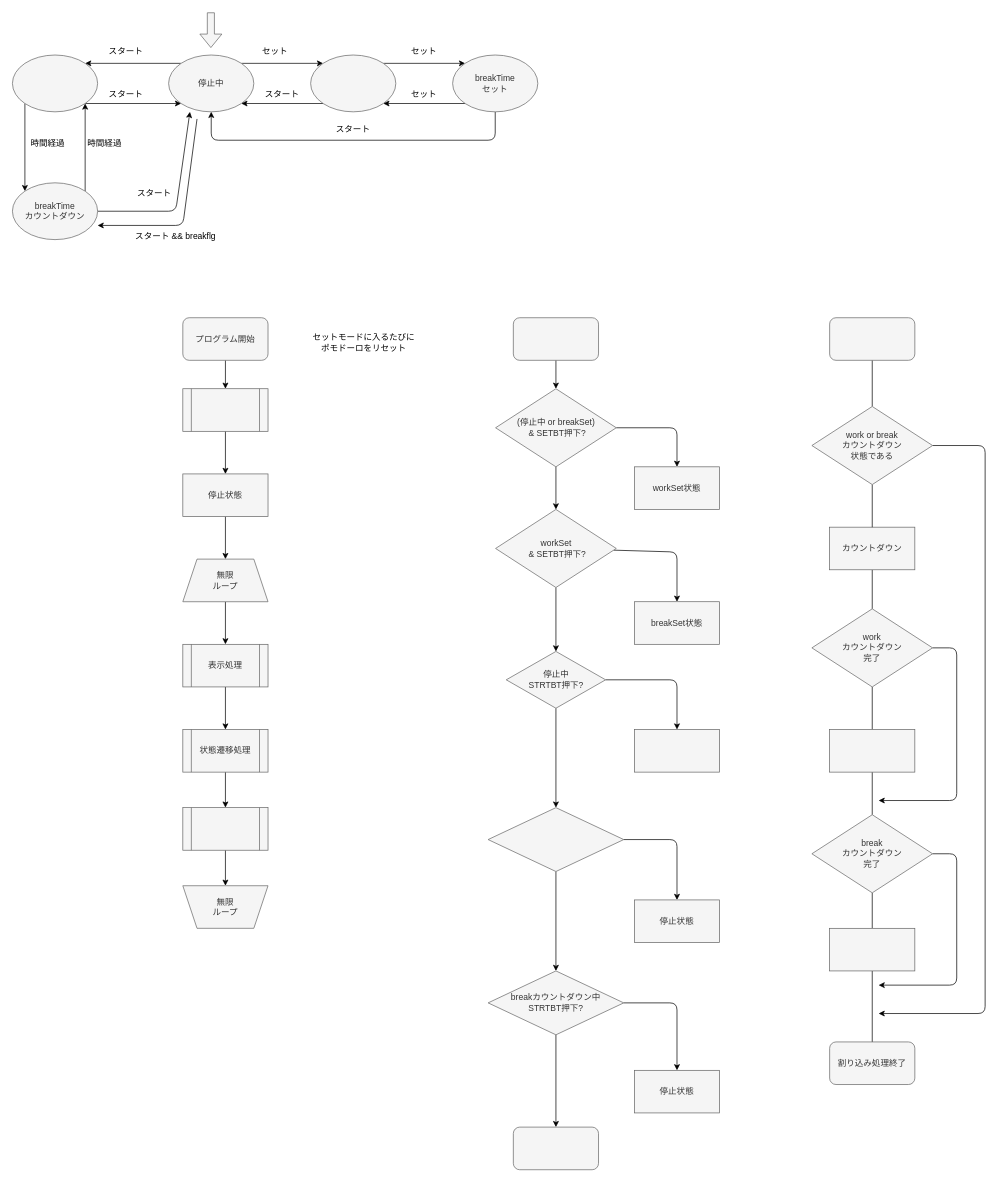
Image size: 1003x1182. Some labels were removed from this diagram. The shapes that lost their labels are listed below. From the top down, each one's centre as x and y in pixels, then its label:
At point 55,83: "workTime カウントダウン".
At point 353,83: "workTime セット".
At point 556,338: "状態遷移処理開始".
At point 872,338: "割り込み処理開始".
At point 225,409: "割り込み処理 スタート".
At point 677,750: "workカウントダウン状態".
At point 872,750: "breakカウント状態".
At point 225,828: "各状態での 処理".
At point 555,839: "workカウントダウン中 STRTBT押下?".
At point 872,949: "workカウント状態".
At point 556,1148: "状態遷移処理終了".
